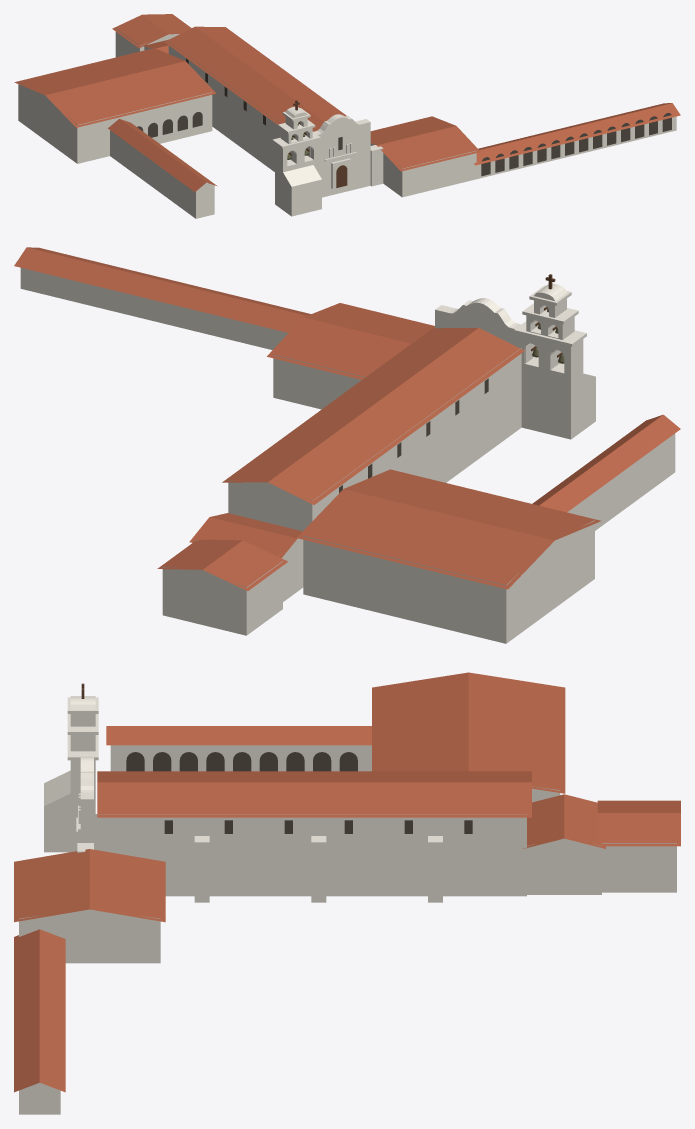
File: sd-mission-san-diego.glb
3 views of the same model, one above another, from view 1: azimuth 30°, elevation 25°; view 2: azimuth 150°, elevation 25°; view 3: azimuth 270°, elevation 25° (orthographic). The views are drawn at different scales.
Visible parts, largest first — view 1: Mission Basilica San Diego de Alcalá; view 2: Mission Basilica San Diego de Alcalá; view 3: Mission Basilica San Diego de Alcalá.
Part boxes in pixels (x1=…): Mission Basilica San Diego de Alcalá: x1=14, y1=14, x2=680, y2=218; Mission Basilica San Diego de Alcalá: x1=14, y1=247, x2=680, y2=643; Mission Basilica San Diego de Alcalá: x1=14, y1=672, x2=680, y2=1114.
Size of the model in its own units: 105 by 21 by 80.1.
